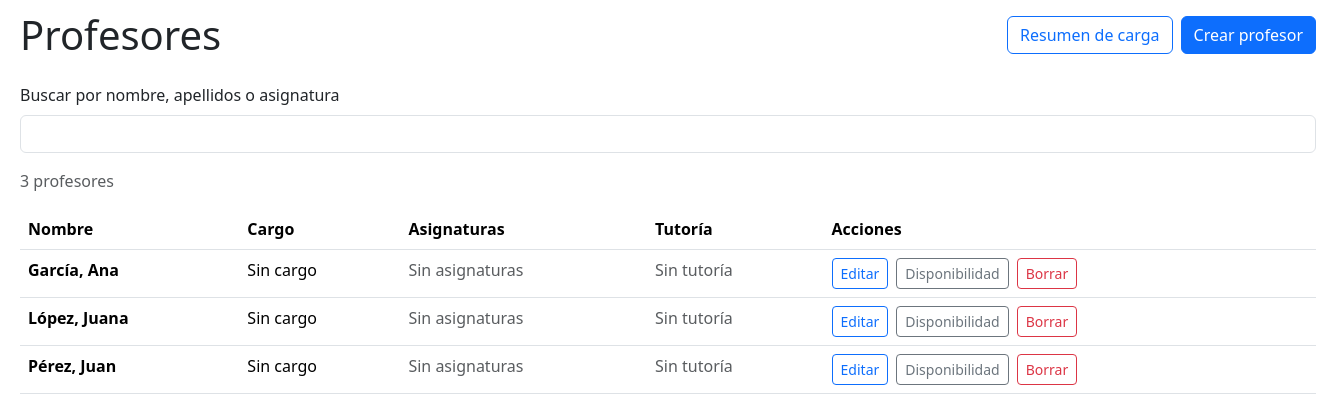
it: ProfessorsPage › search on a wide screen › filters while typing, in the order of the service, and announces the result
Expected: the text "3 profesores" is shown, [20, 170, 114, 192]
Step 1. Type "juan" into the search field labelled "Buscar por nombre, apellidos o asignatura" → (668, 134), box [20, 115, 1316, 153]
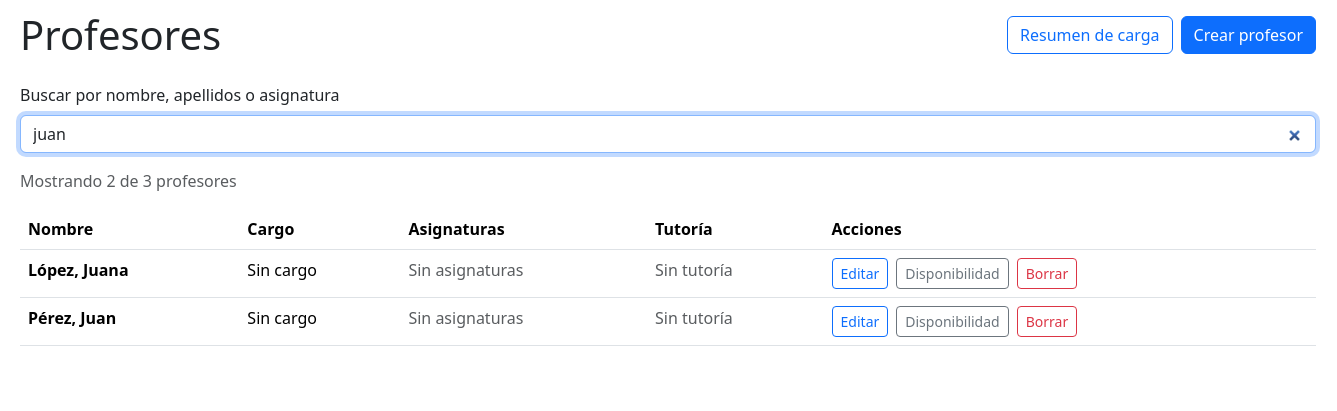
Result: the message with test id "professors-count" reads "Mostrando 2 de 3 profesores" at [20, 170, 237, 192]
